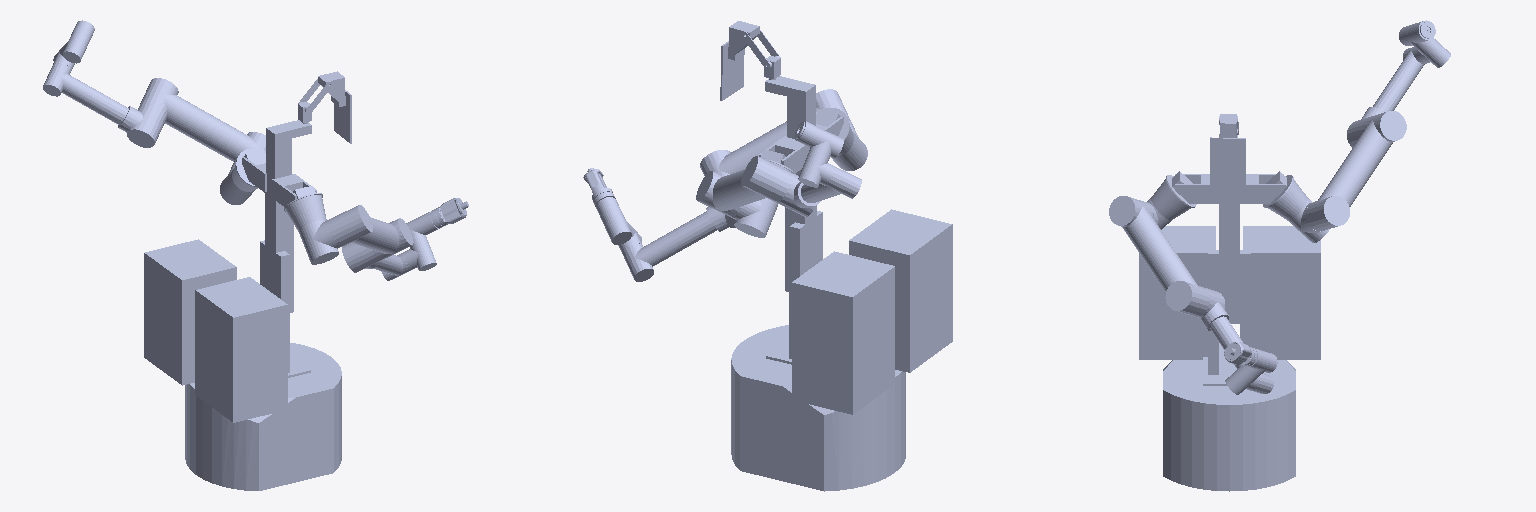
--- Facts derived from the render (not from the file) ---
3 views of the same robot in one strip: view 1: azimuth 30°, elevation 25°; view 2: azimuth 150°, elevation 25°; view 3: azimuth 270°, elevation 25° (orthographic).
Model Cholera with 22 links and 21 joints (14 revolute, 7 fixed), rooted at base_link, posed every joint at zero.
Links seen in each view (by area): view 1: base_link, left_upperarm_link, left_forearm_link, right_upperarm_link, head_neck2_link, head_base_link, right_forearm_link, right_shoulder_link, right_base_link, vacuum_gripper_link, right_wrist1_link, left_wrist2_link (+1 smaller); view 2: base_link, left_upperarm_link, right_forearm_link, head_neck2_link, right_upperarm_link, left_forearm_link, head_base_link, left_shoulder_link, left_wrist1_link, right_wrist2_link, right_shoulder_link, left_wrist2_link (+1 smaller); view 3: base_link, left_upperarm_link, right_upperarm_link, head_neck2_link, left_forearm_link, right_forearm_link, right_base_link, left_base_link, vacuum_gripper_link, right_wrist1_link, left_wrist1_link, left_shoulder_link.
Boxes of the visible links, left/top/right/bottom form: base_link: left=144, top=148, right=341, bottom=490; left_upperarm_link: left=139, top=78, right=265, bottom=161; left_forearm_link: left=43, top=62, right=165, bottom=147; right_upperarm_link: left=328, top=205, right=413, bottom=259; head_neck2_link: left=298, top=71, right=351, bottom=143; head_base_link: left=266, top=120, right=311, bottom=178; right_forearm_link: left=342, top=243, right=412, bottom=280; right_shoulder_link: left=299, top=220, right=339, bottom=264; right_base_link: left=285, top=195, right=326, bottom=231; vacuum_gripper_link: left=431, top=198, right=468, bottom=228; right_wrist1_link: left=404, top=239, right=436, bottom=270; left_wrist2_link: left=63, top=30, right=89, bottom=63; base_link: left=731, top=108, right=952, bottom=491; left_upperarm_link: left=696, top=156, right=791, bottom=217; right_forearm_link: left=623, top=207, right=735, bottom=281; head_neck2_link: left=720, top=21, right=780, bottom=100; right_upperarm_link: left=700, top=89, right=850, bottom=175; left_forearm_link: left=778, top=166, right=861, bottom=216; head_base_link: left=765, top=76, right=815, bottom=138; left_shoulder_link: left=733, top=198, right=777, bottom=237; left_wrist1_link: left=798, top=151, right=833, bottom=187; right_wrist2_link: left=601, top=208, right=631, bottom=244; right_shoulder_link: left=832, top=121, right=867, bottom=170; left_wrist2_link: left=808, top=127, right=843, bottom=158; base_link: left=1139, top=171, right=1320, bottom=491; left_upperarm_link: left=1306, top=111, right=1406, bottom=230; right_upperarm_link: left=1109, top=196, right=1209, bottom=315; head_neck2_link: left=1210, top=114, right=1245, bottom=188; left_forearm_link: left=1347, top=47, right=1426, bottom=147; right_forearm_link: left=1194, top=287, right=1273, bottom=393; right_base_link: left=1151, top=179, right=1190, bottom=219; left_base_link: left=1268, top=179, right=1307, bottom=219; vacuum_gripper_link: left=1224, top=342, right=1256, bottom=366; right_wrist1_link: left=1225, top=365, right=1258, bottom=394; left_wrist1_link: left=1417, top=38, right=1450, bottom=67; left_shoulder_link: left=1287, top=198, right=1329, bottom=242.
Bounding box of the posed robot: 1.48 × 1.29 × 1.64 m (x, y, z).
Meshes: 22 distinct files referenced, 22 mesh visuals loaded (22 binary STL).

URDF robot description (Cholera):
<?xml version="1.0" encoding="utf-8"?>
<!-- This URDF was automatically created by SolidWorks to URDF Exporter! Originally created by Stephen Brawner ([email redacted]) 
     Commit Version: 1.5.1-0-g916b5db  Build Version: 1.5.7152.31018
     For more information, please see http://wiki.ros.org/sw_urdf_exporter -->
<robot
  name="Cholera">
  <link
    name="base_link">
    <inertial>
      <origin
        xyz="-0.12713011286975 -5.73413981237447E-05 0.379646859128274"
        rpy="0 0 0" />
      <mass
        value="163.626380453613" />
      <inertia
        ixx="4.25096639842994"
        ixy="-0.000184077090973253"
        ixz="-0.0112541217774995"
        iyy="4.66101938385433"
        iyz="-5.17543392524605E-06"
        izz="4.66249209274685" />
    </inertial>
    <visual>
      <origin
        xyz="0 0 0"
        rpy="0 0 0" />
      <geometry>
        <mesh
          filename="TRINA/base_link.STL" />
      </geometry>
      <material
        name="">
        <color
          rgba="0.792156862745098 0.819607843137255 0.933333333333333 1" />
      </material>
    </visual>
    <collision>
      <origin
        xyz="0 0 0"
        rpy="0 0 0" />
      <geometry>
        <mesh
          filename="TRINA/base_link.STL" />
      </geometry>
    </collision>
  </link>
  <link
    name="left_base_link">
    <inertial>
      <origin
        xyz="6.66133814775094E-16 3.33066907387547E-16 0.045250016785834"
        rpy="0 0 0" />
      <mass
        value="1.39397162412901" />
      <inertia
        ixx="0.00271550342627118"
        ixy="7.04731412115578E-19"
        ixz="-5.42101086242752E-20"
        iyy="0.00271550342627118"
        iyz="3.79470760369927E-19"
        izz="0.00319199166031868" />
    </inertial>
    <visual>
      <origin
        xyz="0 0 0"
        rpy="0 0 0" />
      <geometry>
        <mesh
          filename="TRINA/left_base_link.STL" />
      </geometry>
      <material
        name="">
        <color
          rgba="0.792156862745098 0.819607843137255 0.933333333333333 1" />
      </material>
    </visual>
    <collision>
      <origin
        xyz="0 0 0"
        rpy="0 0 0" />
      <geometry>
        <mesh
          filename="TRINA/left_base_link.STL" />
      </geometry>
    </collision>
  </link>
  <joint
    name="base_left_base"
    type="fixed">
    <origin
      xyz="0.0199169066321389 0.184218468750741 1.1474483982822"
      rpy="2.52611294491941 0.523598775598306 -2.52566187507049" />
    <parent
      link="base_link" />
    <child
      link="left_base_link" />
    <axis
      xyz="0 0 0" />
  </joint>
  <link
    name="left_shoulder_link">
    <inertial>
      <origin
        xyz="1.12259138873583E-07 0.00937261703154313 0.0670267735608719"
        rpy="0 0 0" />
      <mass
        value="1.69867693696253" />
      <inertia
        ixx="0.00442864582515311"
        ixy="-4.01722462727797E-09"
        ixz="2.82097974970905E-10"
        iyy="0.00390531721787358"
        iyz="5.69611350561719E-05"
        izz="0.00356004264650292" />
    </inertial>
    <visual>
      <origin
        xyz="0 0 0"
        rpy="0 0 0" />
      <geometry>
        <mesh
          filename="TRINA/left_shoulder_link.STL" />
      </geometry>
      <material
        name="">
        <color
          rgba="0.792156862745098 0.819607843137255 0.933333333333333 1" />
      </material>
    </visual>
    <collision>
      <origin
        xyz="0 0 0"
        rpy="0 0 0" />
      <geometry>
        <mesh
          filename="TRINA/left_shoulder_link.STL" />
      </geometry>
    </collision>
  </link>
  <joint
    name="left_base_shoulder"
    type="revolute">
    <origin
      xyz="0 0 0.0990599999999997"
      rpy="0 0 1.5707963267949" />
    <parent
      link="left_base_link" />
    <child
      link="left_shoulder_link" />
    <axis
      xyz="0 0 1" />
    <limit
      lower="-6.28"
      upper="6.28"
      effort="150"
      velocity="3.33" />
  </joint>
  <link
    name="left_upperarm_link">
    <inertial>
      <origin
        xyz="1.35809636536699E-07 0.212500030104974 0.0653493983179745"
        rpy="0 0 0" />
      <mass
        value="6.31285273346304" />
      <inertia
        ixx="0.16990036349023"
        ixy="8.6117915546087E-09"
        ixz="3.01509572222386E-07"
        iyy="0.0127291856529223"
        iyz="-4.74484107603271E-10"
        izz="0.168139675767775" />
    </inertial>
    <visual>
      <origin
        xyz="0 0 0"
        rpy="0 0 0" />
      <geometry>
        <mesh
          filename="TRINA/left_upperarm_link.STL" />
      </geometry>
      <material
        name="">
        <color
          rgba="0.792156862745098 0.819607843137255 0.933333333333333 1" />
      </material>
    </visual>
    <collision>
      <origin
        xyz="0 0 0"
        rpy="0 0 0" />
      <geometry>
        <mesh
          filename="TRINA/left_upperarm_link.STL" />
      </geometry>
    </collision>
  </link>
  <joint
    name="left_shoulder_upperarm"
    type="revolute">
    <origin
      xyz="0 0.0743999999999998 0.063449"
      rpy="-1.5707963267949 -1.5707963267949 0" />
    <parent
      link="left_shoulder_link" />
    <child
      link="left_upperarm_link" />
    <axis
      xyz="0 0 1" />
    <limit
      lower="-6.28"
      upper="6.28"
      effort="150"
      velocity="3.33" />
  </joint>
  <link
    name="left_forearm_link">
    <inertial>
      <origin
        xyz="-7.21842751127966E-08 0.150537143611748 0.064167979985525"
        rpy="0 0 0" />
      <mass
        value="3.18874316726664" />
      <inertia
        ixx="0.0756021338285761"
        ixy="-1.63221275937316E-08"
        ixz="6.02985663136768E-10"
        iyy="0.00433469538941206"
        iyz="-0.00195295053988458"
        izz="0.0749130409802872" />
    </inertial>
    <visual>
      <origin
        xyz="0 0 0"
        rpy="0 0 0" />
      <geometry>
        <mesh
          filename="TRINA/left_forearm_link.STL" />
      </geometry>
      <material
        name="">
        <color
          rgba="0.792156862745098 0.819607843137255 0.933333333333333 1" />
      </material>
    </visual>
    <collision>
      <origin
        xyz="0 0 0"
        rpy="0 0 0" />
      <geometry>
        <mesh
          filename="TRINA/left_forearm_link.STL" />
      </geometry>
    </collision>
  </link>
  <joint
    name="left_upperarm_forearm"
    type="revolute">
    <origin
      xyz="0 0.425 0"
      rpy="3.14159265358979 0 -3.14159265358979" />
    <parent
      link="left_upperarm_link" />
    <child
      link="left_forearm_link" />
    <axis
      xyz="0 0 -1" />
    <limit
      lower="-6.28"
      upper="6.28"
      effort="28"
      velocity="3.33" />
  </joint>
  <link
    name="left_wrist1_link">
    <inertial>
      <origin
        xyz="-7.17789476745168E-08 -0.00387150310160234 0.0495746168733389"
        rpy="0 0 0" />
      <mass
        value="0.571932642971712" />
      <inertia
        ixx="0.000793661756662813"
        ixy="9.85054197228091E-11"
        ixz="-4.33405092928807E-10"
        iyy="0.000568425969946135"
        iyz="2.06484711595077E-05"
        izz="0.000647159561866029" />
    </inertial>
    <visual>
      <origin
        xyz="0 0 0"
        rpy="0 0 0" />
      <geometry>
        <mesh
          filename="TRINA/left_wrist1_link.STL" />
      </geometry>
      <material
        name="">
        <color
          rgba="0.792156862745098 0.819607843137255 0.933333333333333 1" />
      </material>
    </visual>
    <collision>
      <origin
        xyz="0 0 0"
        rpy="0 0 0" />
      <geometry>
        <mesh
          filename="TRINA/left_wrist1_link.STL" />
      </geometry>
    </collision>
  </link>
  <joint
    name="left_forearm_wrist1"
    type="revolute">
    <origin
      xyz="0 0.39225 0.0139499999999999"
      rpy="-3.14159265358979 0 1.5707963267949" />
    <parent
      link="left_forearm_link" />
    <child
      link="left_wrist1_link" />
    <axis
      xyz="0 0 1" />
    <limit
      lower="-6.28"
      upper="6.28"
      effort="28"
      velocity="3.33" />
  </joint>
  <link
    name="left_wrist2_link">
    <inertial>
      <origin
        xyz="8.23701840069191E-09 -0.00401809052430346 0.0461487178886334"
        rpy="0 0 0" />
      <mass
        value="0.547369091670538" />
      <inertia
        ixx="0.000728213850225436"
        ixy="-3.66202029502194E-11"
        ixz="6.99880365386549E-11"
        iyy="0.000503983487755793"
        iyz="1.59481868034705E-05"
        izz="0.00062888409092405" />
    </inertial>
    <visual>
      <origin
        xyz="0 0 0"
        rpy="0 0 0" />
      <geometry>
        <mesh
          filename="TRINA/left_wrist2_link.STL" />
      </geometry>
      <material
        name="">
        <color
          rgba="0.792156862745098 0.819607843137255 0.933333333333333 1" />
      </material>
    </visual>
    <collision>
      <origin
        xyz="0 0 0"
        rpy="0 0 0" />
      <geometry>
        <mesh
          filename="TRINA/left_wrist2_link.STL" />
      </geometry>
    </collision>
  </link>
  <joint
    name="left_wrist1_wrist2"
    type="revolute">
    <origin
      xyz="0 0.0463000000000004 0.0588999999999997"
      rpy="1.5707963267949 0 3.14159265358979" />
    <parent
      link="left_wrist1_link" />
    <child
      link="left_wrist2_link" />
    <axis
      xyz="0 0 1" />
    <limit
      lower="-6.28"
      upper="6.28"
      effort="28"
      velocity="3.33" />
  </joint>
  <link
    name="left_EE_link">
    <inertial>
      <origin
        xyz="0 -4.44089209850063E-16 0.0254445195252648"
        rpy="0 0 0" />
      <mass
        value="0.224027022443648" />
      <inertia
        ixx="0.00012658229794006"
        ixy="-3.3881317890172E-21"
        ixz="2.71050543121376E-20"
        iyy="0.00012658229794006"
        iyz="0"
        izz="0.000155143101918596" />
    </inertial>
    <visual>
      <origin
        xyz="0 0 0"
        rpy="0 0 0" />
      <geometry>
        <mesh
          filename="TRINA/left_EE_link.STL" />
      </geometry>
      <material
        name="">
        <color
          rgba="0.792156862745098 0.819607843137255 0.933333333333333 1" />
      </material>
    </visual>
    <collision>
      <origin
        xyz="0 0 0"
        rpy="0 0 0" />
      <geometry>
        <mesh
          filename="TRINA/left_EE_link.STL" />
      </geometry>
    </collision>
  </link>
  <joint
    name="left_wrist2_EE"
    type="revolute">
    <origin
      xyz="0 0.0463000000000002 0.0534000000000001"
      rpy="1.5707963267949 0 -3.14159265358979" />
    <parent
      link="left_wrist2_link" />
    <child
      link="left_EE_link" />
    <axis
      xyz="0 0 1" />
    <limit
      lower="-6.28"
      upper="6.28"
      effort="28"
      velocity="3.33" />
  </joint>
  <link
    name="left_tool_link">
    <inertial>
      <origin
        xyz="-0.000500000000000611 0 -7.7715611723761E-16"
        rpy="0 0 0" />
      <mass
        value="2.50000000000001E-05" />
      <inertia
        ixx="1.04166666666664E-10"
        ixy="1.59135332688424E-25"
        ixz="1.03397576569128E-25"
        iyy="5.41666666666658E-11"
        iyz="1.54611688713525E-24"
        izz="5.41666666666653E-11" />
    </inertial>
    <visual>
      <origin
        xyz="0 0 0"
        rpy="0 0 0" />
      <geometry>
        <mesh
          filename="TRINA/left_tool_link.STL" />
      </geometry>
      <material
        name="">
        <color
          rgba="0.792156862745098 0.819607843137255 0.933333333333333 1" />
      </material>
    </visual>
    <collision>
      <origin
        xyz="0 0 0"
        rpy="0 0 0" />
      <geometry>
        <mesh
          filename="TRINA/left_tool_link.STL" />
      </geometry>
    </collision>
  </link>
  <joint
    name="left_EE_tool"
    type="fixed">
    <origin
      xyz="0 0 0.0532999999999992"
      rpy="1.5707963267949 -1.5707963267949 0" />
    <parent
      link="left_EE_link" />
    <child
      link="left_tool_link" />
    <axis
      xyz="0 0 0" />
  </joint>
  <link
    name="right_base_link">
    <inertial>
      <origin
        xyz="2.22044604925031E-16 -2.4980018054066E-16 0.0452500167858338"
        rpy="0 0 0" />
      <mass
        value="1.39397162412901" />
      <inertia
        ixx="0.00271550342627118"
        ixy="-7.04731412115578E-19"
        ixz="5.96311194867027E-19"
        iyy="0.00271550342627118"
        iyz="-5.42101086242752E-20"
        izz="0.00319199166031868" />
    </inertial>
    <visual>
      <origin
        xyz="0 0 0"
        rpy="0 0 0" />
      <geometry>
        <mesh
          filename="TRINA/right_base_link.STL" />
      </geometry>
      <material
        name="">
        <color
          rgba="0.792156862745098 0.819607843137255 0.933333333333333 1" />
      </material>
    </visual>
    <collision>
      <origin
        xyz="0 0 0"
        rpy="0 0 0" />
      <geometry>
        <mesh
          filename="TRINA/right_base_link.STL" />
      </geometry>
    </collision>
  </link>
  <joint
    name="base_right_base"
    type="fixed">
    <origin
      xyz="0.0200830892985796 -0.184200425957397 1.1474483982822"
      rpy="-2.5261129449194 0.523598775598298 2.52656401476832" />
    <parent
      link="base_link" />
    <child
      link="right_base_link" />
    <axis
      xyz="0 0 0" />
  </joint>
  <link
    name="right_shoulder_link">
    <inertial>
      <origin
        xyz="-0.00154136079217018 0.00937262863101196 0.0670090673661068"
        rpy="0 0 0" />
      <mass
        value="1.69867710673471" />
      <inertia
        ixx="0.00442819106459179"
        ixy="-1.30490914044775E-06"
        ixz="1.99679554823115E-05"
        iyy="0.00390531761998801"
        iyz="5.6944639556471E-05"
        izz="0.00356049958613063" />
    </inertial>
    <visual>
      <origin
        xyz="0 0 0"
        rpy="0 0 0" />
      <geometry>
        <mesh
          filename="TRINA/right_shoulder_link.STL" />
      </geometry>
      <material
        name="">
        <color
          rgba="0.792156862745098 0.819607843137255 0.933333333333333 1" />
      </material>
    </visual>
    <collision>
      <origin
        xyz="0 0 0"
        rpy="0 0 0" />
      <geometry>
        <mesh
          filename="TRINA/right_shoulder_link.STL" />
      </geometry>
    </collision>
  </link>
  <joint
    name="right_base_shoulder"
    type="revolute">
    <origin
      xyz="0 0 0.0990599999999999"
      rpy="0 0.0229967266502195 1.5707963267949" />
    <parent
      link="right_base_link" />
    <child
      link="right_shoulder_link" />
    <axis
      xyz="0 0 1" />
    <limit
      lower="-6.28"
      upper="6.28"
      effort="150"
      velocity="3.33" />
  </joint>
  <link
    name="right_upperarm_link">
    <inertial>
      <origin
        xyz="-1.35809636203632E-07 0.212499969895026 0.0653493983179743"
        rpy="0 0 0" />
      <mass
        value="6.31285273346304" />
      <inertia
        ixx="0.16990036349023"
        ixy="8.61179159060421E-09"
        ixz="-3.01509572201569E-07"
        iyy="0.0127291856529223"
        iyz="4.74484085268706E-10"
        izz="0.168139675767776" />
    </inertial>
    <visual>
      <origin
        xyz="0 0 0"
        rpy="0 0 0" />
      <geometry>
        <mesh
          filename="TRINA/right_upperarm_link.STL" />
      </geometry>
      <material
        name="">
        <color
          rgba="0.792156862745098 0.819607843137255 0.933333333333333 1" />
      </material>
    </visual>
    <collision>
      <origin
        xyz="0 0 0"
        rpy="0 0 0" />
      <geometry>
        <mesh
          filename="TRINA/right_upperarm_link.STL" />
      </geometry>
    </collision>
  </link>
  <joint
    name="right_shoulder_upperarm"
    type="revolute">
    <origin
      xyz="-0.0014589907035592 0.0744000000000004 0.0634322232554314"
      rpy="1.57079632679488 -1.54779960014467 -3.14159265358977" />
    <parent
      link="right_shoulder_link" />
    <child
      link="right_upperarm_link" />
    <axis
      xyz="0 0 1" />
    <limit
      lower="-6.28"
      upper="6.28"
      effort="150"
      velocity="3.33" />
  </joint>
  <link
    name="right_forearm_link">
    <inertial>
      <origin
        xyz="-6.51721676625527E-08 0.150537142769539 0.064167927096821"
        rpy="0 0 0" />
      <mass
        value="3.18874319308628" />
      <inertia
        ixx="0.0756018379787176"
        ixy="-9.18789419601445E-08"
        ixz="-2.64058856100369E-08"
        iyy="0.00433460732058588"
        iyz="-0.00195295576164619"
        izz="0.0749126055109011" />
    </inertial>
    <visual>
      <origin
        xyz="0 0 0"
        rpy="0 0 0" />
      <geometry>
        <mesh
          filename="TRINA/right_forearm_link.STL" />
      </geometry>
      <material
        name="">
        <color
          rgba="0.792156862745098 0.819607843137255 0.933333333333333 1" />
      </material>
    </visual>
    <collision>
      <origin
        xyz="0 0 0"
        rpy="0 0 0" />
      <geometry>
        <mesh
          filename="TRINA/right_forearm_link.STL" />
      </geometry>
    </collision>
  </link>
  <joint
    name="right_upperarm_forearm"
    type="revolute">
    <origin
      xyz="0 0.425 0"
      rpy="3.14159265358979 0 3.14159265358979" />
    <parent
      link="right_upperarm_link" />
    <child
      link="right_forearm_link" />
    <axis
      xyz="0 0 -1" />
    <limit
      lower="-6.28"
      upper="6.28"
      effort="28"
      velocity="3.33" />
  </joint>
  <link
    name="right_wrist1_link">
    <inertial>
      <origin
        xyz="6.77764219192412E-08 -0.00387151440579381 0.0495746126741422"
        rpy="0 0 0" />
      <mass
        value="0.571932663446469" />
      <inertia
        ixx="0.0007936622201079"
        ixy="-1.36261282232585E-10"
        ixz="5.74541059557765E-10"
        iyy="0.000568425667847512"
        iyz="2.06482942693129E-05"
        izz="0.000647159597311378" />
    </inertial>
    <visual>
      <origin
        xyz="0 0 0"
        rpy="0 0 0" />
      <geometry>
        <mesh
          filename="TRINA/right_wrist1_link.STL" />
      </geometry>
      <material
        name="">
        <color
          rgba="0.792156862745098 0.819607843137255 0.933333333333333 1" />
      </material>
    </visual>
    <collision>
      <origin
        xyz="0 0 0"
        rpy="0 0 0" />
      <geometry>
        <mesh
          filename="TRINA/right_wrist1_link.STL" />
      </geometry>
    </collision>
  </link>
  <joint
    name="right_forearm_wrist1"
    type="revolute">
    <origin
      xyz="0 0.39225 0.01395"
      rpy="-3.1416 0 1.5708" />
    <parent
      link="right_forearm_link" />
    <child
      link="right_wrist1_link" />
    <axis
      xyz="0 0 1" />
    <limit
      lower="-6.28"
      upper="6.28"
      effort="28"
      velocity="3.33" />
  </joint>
  <link
    name="right_wrist2_link">
    <inertial>
      <origin
        xyz="-8.4909E-09 -0.0040181 0.046149"
        rpy="0 0 0" />
      <mass
        value="0.54737" />
      <inertia
        ixx="0.00072821"
        ixy="-3.1544E-12"
        ixz="-4.4591E-11"
        iyy="0.00050398"
        iyz="1.5948E-05"
        izz="0.00062888" />
    </inertial>
    <visual>
      <origin
        xyz="0 0 0"
        rpy="0 0 0" />
      <geometry>
        <mesh
          filename="TRINA/right_wrist2_link.STL" />
      </geometry>
      <material
        name="">
        <color
          rgba="0.79216 0.81961 0.93333 1" />
      </material>
    </visual>
    <collision>
      <origin
        xyz="0 0 0"
        rpy="0 0 0" />
      <geometry>
        <mesh
          filename="TRINA/right_wrist2_link.STL" />
      </geometry>
    </collision>
  </link>
  <joint
    name="right_wrist1_wrist2"
    type="revolute">
    <origin
      xyz="0 0.0462999999999996 0.0589"
      rpy="1.5707963267949 0 -3.14159265358979" />
    <parent
      link="right_wrist1_link" />
    <child
      link="right_wrist2_link" />
    <axis
      xyz="0 0 1" />
    <limit
      lower="-6.28"
      upper="6.28"
      effort="28"
      velocity="3.33" />
  </joint>
  <link
    name="right_EE_link">
    <inertial>
      <origin
        xyz="-4.44089209850063E-16 -2.22044604925031E-16 0.0254445195252647"
        rpy="0 0 0" />
      <mass
        value="0.224027022443649" />
      <inertia
        ixx="0.00012658229794006"
        ixy="1.35525271560688E-20"
        ixz="-3.72694496791892E-20"
        iyy="0.00012658229794006"
        iyz="-6.7762635780344E-21"
        izz="0.000155143101918596" />
    </inertial>
    <visual>
      <origin
        xyz="0 0 0"
        rpy="0 0 0" />
      <geometry>
        <mesh
          filename="TRINA/right_EE_link.STL" />
      </geometry>
      <material
        name="">
        <color
          rgba="0.792156862745098 0.819607843137255 0.933333333333333 1" />
      </material>
    </visual>
    <collision>
      <origin
        xyz="0 0 0"
        rpy="0 0 0" />
      <geometry>
        <mesh
          filename="TRINA/right_EE_link.STL" />
      </geometry>
    </collision>
  </link>
  <joint
    name="right_wrist2_EE"
    type="revolute">
    <origin
      xyz="0 0.0463 0.0534"
      rpy="1.5708 -0.022997 3.1416" />
    <parent
      link="right_wrist2_link" />
    <child
      link="right_EE_link" />
    <axis
      xyz="0 0 1" />
    <limit
      lower="-6.28"
      upper="6.28"
      effort="28"
      velocity="3.33" />
  </joint>
  <link
    name="right_tool_link">
    <inertial>
      <origin
        xyz="-0.00050000000000161 2.22044604925031E-16 0"
        rpy="0 0 0" />
      <mass
        value="2.49999999999999E-05" />
      <inertia
        ixx="1.04166666666663E-10"
        ixy="-2.05179566004364E-25"
        ixz="-9.37040537657727E-26"
        iyy="5.41666666666652E-11"
        iyz="-8.33642961088598E-25"
        izz="5.41666666666645E-11" />
    </inertial>
    <visual>
      <origin
        xyz="0 0 0"
        rpy="0 0 0" />
      <geometry>
        <mesh
          filename="TRINA/right_tool_link.STL" />
      </geometry>
      <material
        name="">
        <color
          rgba="0.792156862745098 0.819607843137255 0.933333333333333 1" />
      </material>
    </visual>
    <collision>
      <origin
        xyz="0 0 0"
        rpy="0 0 0" />
      <geometry>
        <mesh
          filename="TRINA/right_tool_link.STL" />
      </geometry>
    </collision>
  </link>
  <joint
    name="right_EE_tool"
    type="fixed">
    <origin
      xyz="0 0 0.0533000000000007"
      rpy="1.54779960014468 -1.5707963267949 0" />
    <parent
      link="right_EE_link" />
    <child
      link="right_tool_link" />
    <axis
      xyz="0 0 0" />
  </joint>
  <link
    name="head_base_link">
    <inertial>
      <origin
        xyz="0.053446 -1.1102E-15 0.10867"
        rpy="0 0 0" />
      <mass
        value="1.1679" />
      <inertia
        ixx="0.0043329"
        ixy="-1.4219E-19"
        ixz="-0.0011316"
        iyy="0.0057322"
        iyz="-4.4046E-19"
        izz="0.0022475" />
    </inertial>
    <visual>
      <origin
        xyz="0 0 0"
        rpy="0 0 0" />
      <geometry>
        <mesh
          filename="TRINA/head_base_link.STL" />
      </geometry>
      <material
        name="">
        <color
          rgba="0.79216 0.81961 0.93333 1" />
      </material>
    </visual>
    <collision>
      <origin
        xyz="0 0 0"
        rpy="0 0 0" />
      <geometry>
        <mesh
          filename="TRINA/head_base_link.STL" />
      </geometry>
    </collision>
  </link>
  <joint
    name="base_head_base"
    type="fixed">
    <origin
      xyz="-0.02 0 1.1981"
      rpy="0 0 0.00045107" />
    <parent
      link="base_link" />
    <child
      link="head_base_link" />
    <axis
      xyz="0 0 0" />
  </joint>
  <link
    name="head_neck1_link">
    <inertial>
      <origin
        xyz="1.1657E-15 -1.1657E-15 0.045094"
        rpy="0 0 0" />
      <mass
        value="0.11711" />
      <inertia
        ixx="6.4146E-05"
        ixy="-2.9944E-07"
        ixz="8.3932E-21"
        iyy="5.6657E-05"
        iyz="-3.8064E-20"
        izz="3.6841E-05" />
    </inertial>
    <visual>
      <origin
        xyz="0 0 0"
        rpy="0 0 0" />
      <geometry>
        <mesh
          filename="TRINA/head_neck1_link.STL" />
      </geometry>
      <material
        name="">
        <color
          rgba="0.79216 0.81961 0.93333 1" />
      </material>
    </visual>
    <collision>
      <origin
        xyz="0 0 0"
        rpy="0 0 0" />
      <geometry>
        <mesh
          filename="TRINA/head_neck1_link.STL" />
      </geometry>
    </collision>
  </link>
  <joint
    name="head_base_neck1"
    type="revolute">
    <origin
      xyz="0.1533 0 0.189"
      rpy="0 0 3.1415926" />
    <parent
      link="head_base_link" />
    <child
      link="head_neck1_link" />
    <axis
      xyz="0 0 -1" />
    <limit
      lower="-1.57"
      upper="1.57"
      effort="1"
      velocity="1" />
  </joint>
  <link
    name="head_neck2_link">
    <inertial>
      <origin
        xyz="0.022161 0.13411 -1.2768E-15"
        rpy="0 0 0" />
      <mass
        value="0.67574" />
      <inertia
        ixx="0.0009367"
        ixy="0.00075814"
        ixz="-1.7788E-18"
        iyy="0.00362"
        iyz="2.4395E-19"
        izz="0.0035907" />
    </inertial>
    <visual>
      <origin
        xyz="0 0 0"
        rpy="0 0 0" />
      <geometry>
        <mesh
          filename="TRINA/head_neck2_link.STL" />
      </geometry>
      <material
        name="">
        <color
          rgba="0.79216 0.81961 0.93333 1" />
      </material>
    </visual>
    <collision>
      <origin
        xyz="0 0 0"
        rpy="0 0 0" />
      <geometry>
        <mesh
          filename="TRINA/head_neck2_link.STL" />
      </geometry>
    </collision>
  </link>
  <joint
    name="head_neck1_neck2"
    type="revolute">
    <origin
      xyz="0 0 0.0628"
      rpy="1.5309 -1.5708 0" />
    <parent
      link="head_neck1_link" />
    <child
      link="head_neck2_link" />
    <axis
      xyz="0 0 1" />
    <limit
      lower="-1.57"
      upper="0.785"
      effort="1"
      velocity="1" />
  </joint>
  <link
    name="neck_face_link">
    <inertial>
      <origin
        xyz="-0.0005 0 2.2204E-16"
        rpy="0 0 0" />
      <mass
        value="2.5E-05" />
      <inertia
        ixx="1.0417E-10"
        ixy="1.6257E-25"
        ixz="1.8956E-25"
        iyy="5.4167E-11"
        iyz="7.8619E-25"
        izz="5.4167E-11" />
    </inertial>
    <visual>
      <origin
        xyz="0 0 0"
        rpy="0 0 0" />
      <geometry>
        <mesh
          filename="TRINA/neck_face_link.STL" />
      </geometry>
      <material
        name="">
        <color
          rgba="0.79216 0.81961 0.93333 1" />
      </material>
    </visual>
    <collision>
      <origin
        xyz="0 0 0"
        rpy="0 0 0" />
      <geometry>
        <mesh
          filename="TRINA/neck_face_link.STL" />
      </geometry>
    </collision>
  </link>
  <joint
    name="nect_link2_face"
    type="fixed">
    <origin
      xyz="0.045436 0.16544 0"
      rpy="1.5708 0 1.558" />
    <parent
      link="head_neck2_link" />
    <child
      link="neck_face_link" />
    <axis
      xyz="0 0 0" />
  </joint>

  <link
    name="vacuum_gripper_link">
    <inertial>
      <origin
        xyz="0 0 0"
        rpy="0 0 0" />
      <mass
        value="0.5" />
      <inertia
        ixx="1.0417E-4"
        ixy="1.6257E-15"
        ixz="1.8956E-15"
        iyy="5.4167E-4"
        iyz="7.8619E-15"
        izz="5.4167E-5" />
    </inertial>
    <visual>
      <origin
        xyz="0 0 0"
        rpy="0 0 0" />
      <geometry>
        <mesh
          filename="TRINA/Epick_assembly.STL" />
      </geometry>
      <material
        name="">
        <color
          rgba="0.79216 0.81961 0.93333 1" />
      </material>
    </visual>
    <collision>
      <origin
        xyz="0 0 0"
        rpy="0 0 0" />
      <geometry>
        <mesh
          filename="TRINA/Epick_assembly.STL" />
      </geometry>
    </collision>
  </link>

  <joint
    name="vacuum_gripper_joint"
    type="fixed">
    <origin
      xyz="0 0 0"
      rpy="1.5708 0 1.5708" />
    <parent
      link="right_tool_link" />
    <child
      link="vacuum_gripper_link" />
    <axis
      xyz="0 0 0" />
  </joint>

<klampt>
    <!-- left gripper Robotiq140 -->
    <mount link = 'left_tool_link' file = "robotiq_140.rob" transform = "0 0 1 0 1 0 -1 0 0  0 0 0" prefix="left_gripper"/>
    <noselfcollision group1="left_gripper:base_link left_gripper:right_inner_knuckle left_gripper:right_outer_knuckle left_gripper:right_outer_finger left_gripper:right_inner_finger  left_gripper:right_inner_finger_pad left_gripper:left_inner_knuckle left_gripper:left_outer_knuckle  left_gripper:left_outer_finger  left_gripper:left_inner_finger  left_gripper:left_inner_finger_pad" group2="left_EE_link left_tool_link left_wrist2_link left_wrist1_link"/>
    
    <!-- right gripper Robotiq ePick -->
    <noselfcollision group1="vacuum_gripper_link" group2="right_EE_link right_tool_link right_wrist2_link right_wrist1_link"/>
    
    <noselfcollision group1="left_base_link" group2="right_base_link right_shoulder_link right_upperarm_link"/>
    <noselfcollision group1="left_base_link" group2="left_upperarm_link"/>
    <noselfcollision group1="left_shoulder_link" group2="right_shoulder_link"/>
    <noselfcollision group1="left_wrist2_link" group2="left_forearm_link left_tool_link"/>
    <noselfcollision pairs="left_EE_link left_wrist1_link"/>
    <noselfcollision group1="right_base_link" group2="left_shoulder_link left_upperarm_link"/>
    <noselfcollision group1="right_base_link" group2="right_upperarm_link"/>
    <noselfcollision group1="right_wrist2_link" group2="right_forearm_link left_tool_link"/>
    <noselfcollision pairs="right_EE_link right_wrist1_link"/>
    <noselfcollision pairs="left_tool_link right_tool_link"/>
    <noselfcollision group1="left_tool_link right_tool_link" group2="base_link left_base_link left_shoulder_link left_upperarm_link left_forearm_link left_wrist1_link left_wrist2_link left_EE_link right_base_link right_shoulder_link right_upperarm_link right_forearm_link right_wrist1_link right_wrist2_link right_EE_link"/>
    
    <noselfcollision group1="base_link" group2="head_base_link head_neck1_link head_neck2_link neck_face_link"/>
    <noselfcollision group1="base_link" group2="left_shoulder_link right_shoulder_link"/>
    <noselfcollision group1="head_base_link" group2="head_neck2_link neck_face_link"/>
    <noselfcollision group1="head_neck1_link" group2="neck_face_link"/>

</klampt>

</robot>
